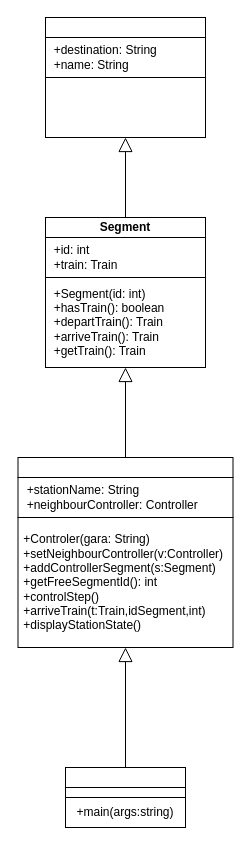
Some shapes in this 250 by 845 pixel diagram are drawn without their labels. Here are the shapes that lost their labels. From the top down, the box of each, then its label:
(44, 16, 206, 38): Train
(44, 76, 206, 138): +Train(destinatie: String, nume:String) +getDestination(): String
(17, 456, 233, 478): Controller
(64, 766, 186, 788): Simulator
